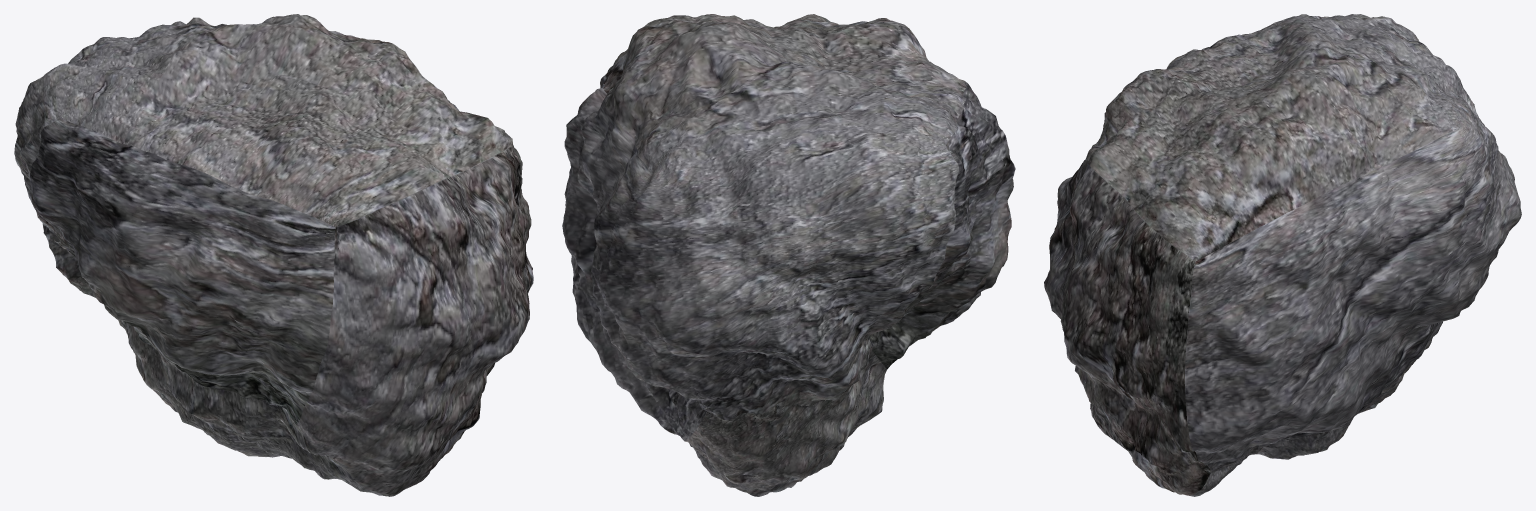
File: Cinturon Blanco.glb
The picture shows the model from 3 angles, left to right: view 1: azimuth 30°, elevation 25°; view 2: azimuth 150°, elevation 25°; view 3: azimuth 270°, elevation 25°; orthographic projection. The views are drawn at different scales.
Visible parts, largest first — view 1: Cube; view 2: Cube; view 3: Cube.
Boxes of the visible parts, x1=… form: Cube: x1=14, y1=14, x2=533, y2=496; Cube: x1=562, y1=14, x2=1015, y2=496; Cube: x1=1044, y1=14, x2=1521, y2=496.
Size of the model in its own units: 1.6 by 1.59 by 1.71.
1 material, 1 textured.
